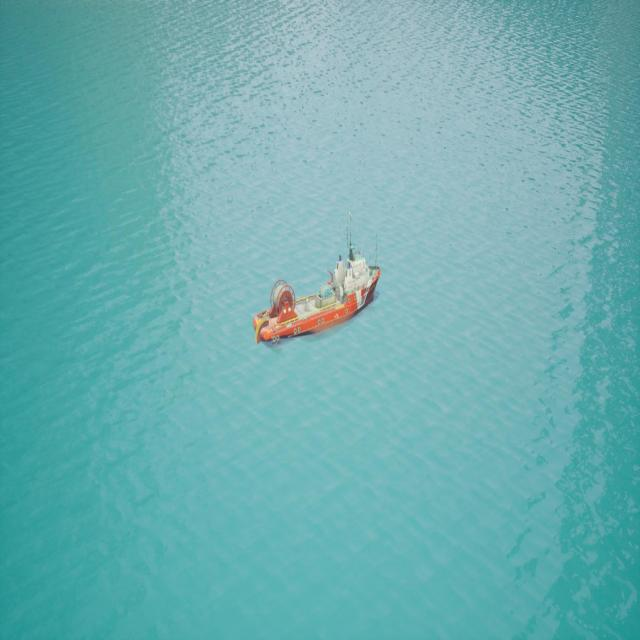tug boat: (256, 218, 383, 349)
